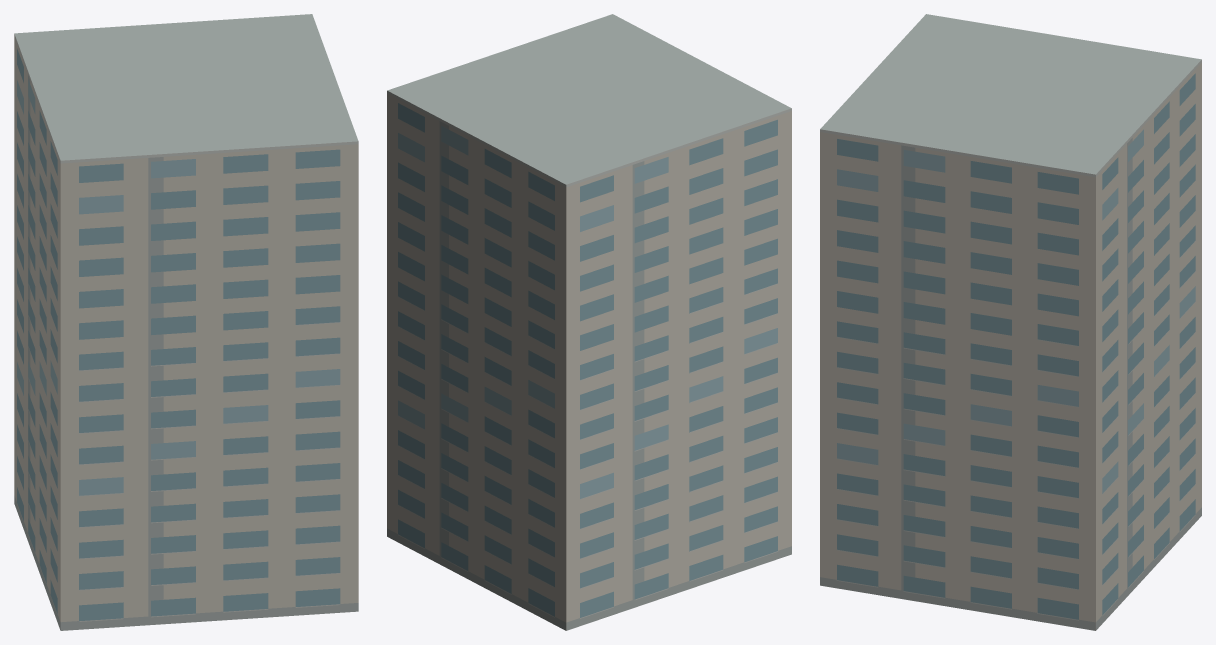
File: residential-4d00505a-5fcd-41e9-98b3-93644b17d592.glb
3 renders of one model, left to right at view 1: azimuth 30°, elevation 25°; view 2: azimuth 150°, elevation 25°; view 3: azimuth 270°, elevation 25°, orthographic. The views are drawn at different scales.
Visible parts, largest first — view 1: residential-4d00505a-5fcd-41e9-98b3-93644b17d592.tmp; view 2: residential-4d00505a-5fcd-41e9-98b3-93644b17d592.tmp; view 3: residential-4d00505a-5fcd-41e9-98b3-93644b17d592.tmp.
Boxes of the visible parts, box(x1,y1,x2,y2) form: residential-4d00505a-5fcd-41e9-98b3-93644b17d592.tmp: box(14, 14, 358, 630); residential-4d00505a-5fcd-41e9-98b3-93644b17d592.tmp: box(387, 14, 791, 630); residential-4d00505a-5fcd-41e9-98b3-93644b17d592.tmp: box(820, 14, 1201, 630).
Bounding box in the file's own units: 30.2 × 40 × 30.35.
